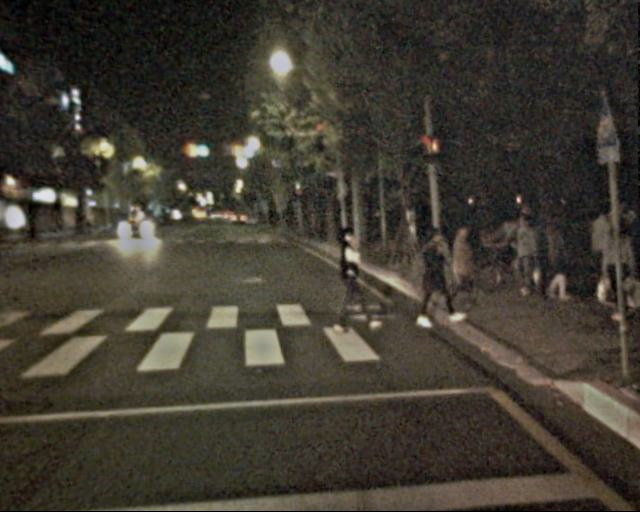person: (328, 226, 373, 335), (411, 226, 454, 330), (499, 208, 544, 302), (599, 223, 640, 325), (584, 203, 624, 300), (442, 223, 479, 314), (540, 215, 577, 305)
